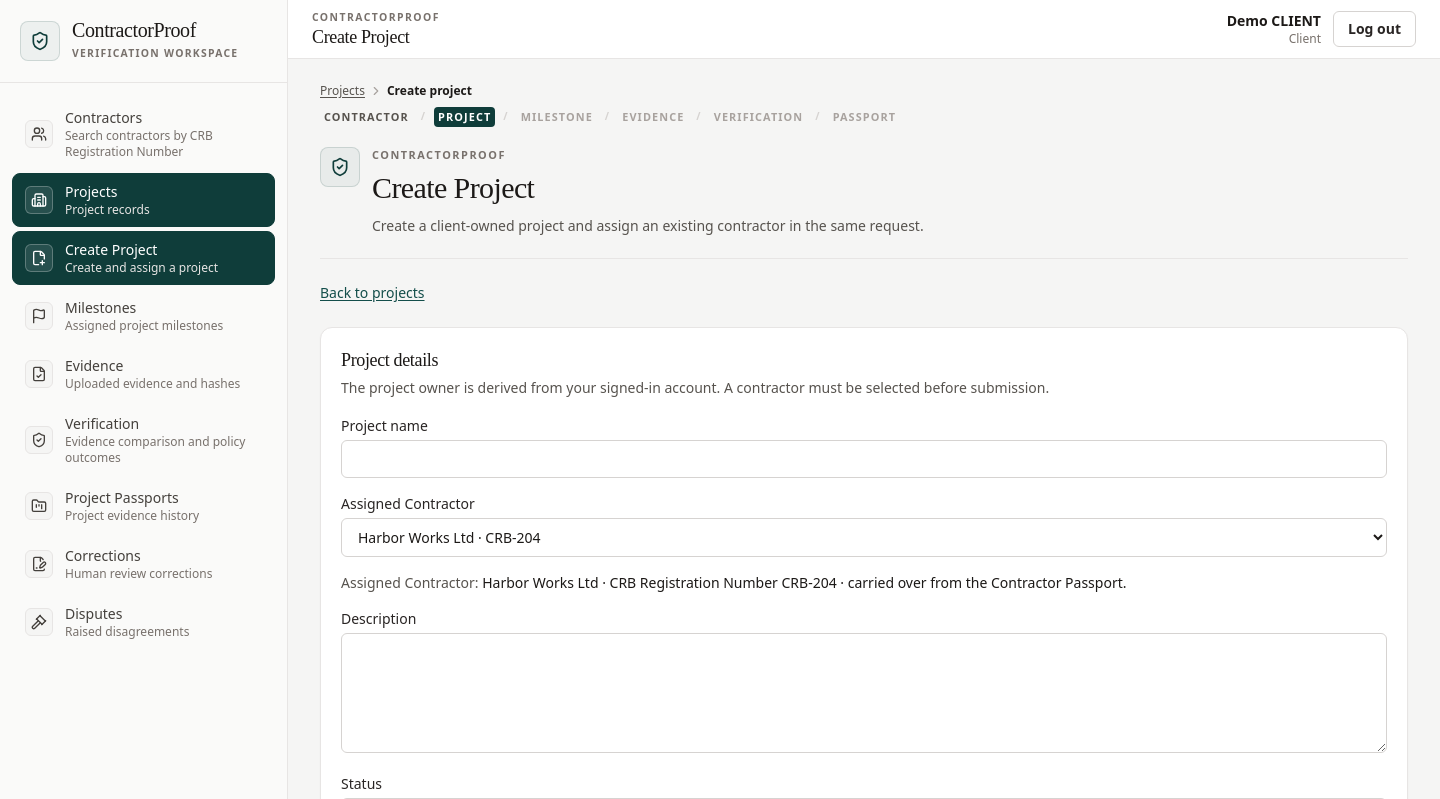
Test: create project with the contractor carried from the Passport › creates the project with the carried contractor and confirms the result
The image size is (1440, 799).
Check: the dropdown labelled "Assigned Contractor" is shown, box [341,518,1387,558]
Type "Harbor bridge deck" into the field labelled "Project name" at (864, 460), box [341,440,1387,478]
(page scrolled)
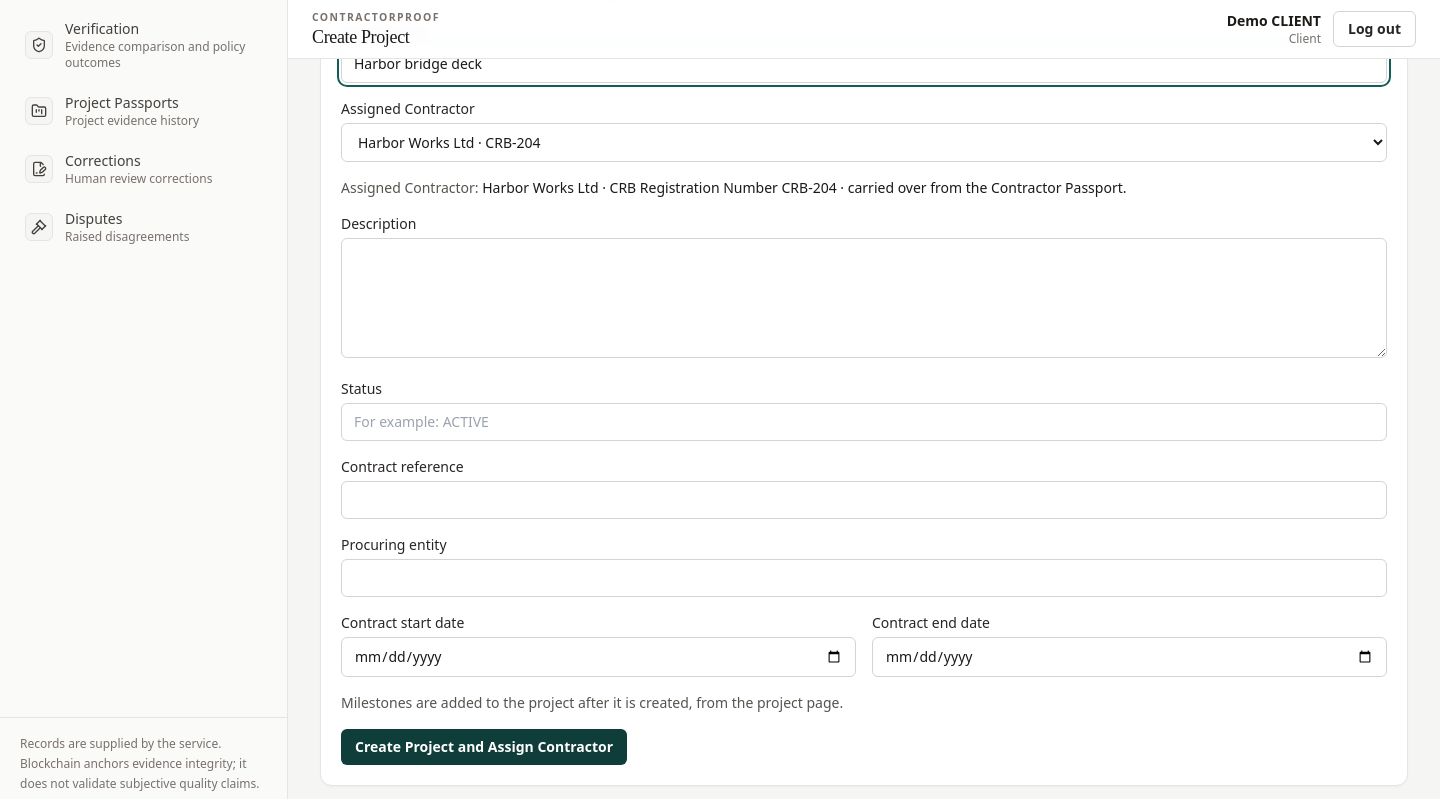
Click the button "Create Project and Assign Contractor" at (484, 748), box [341,730,627,766]
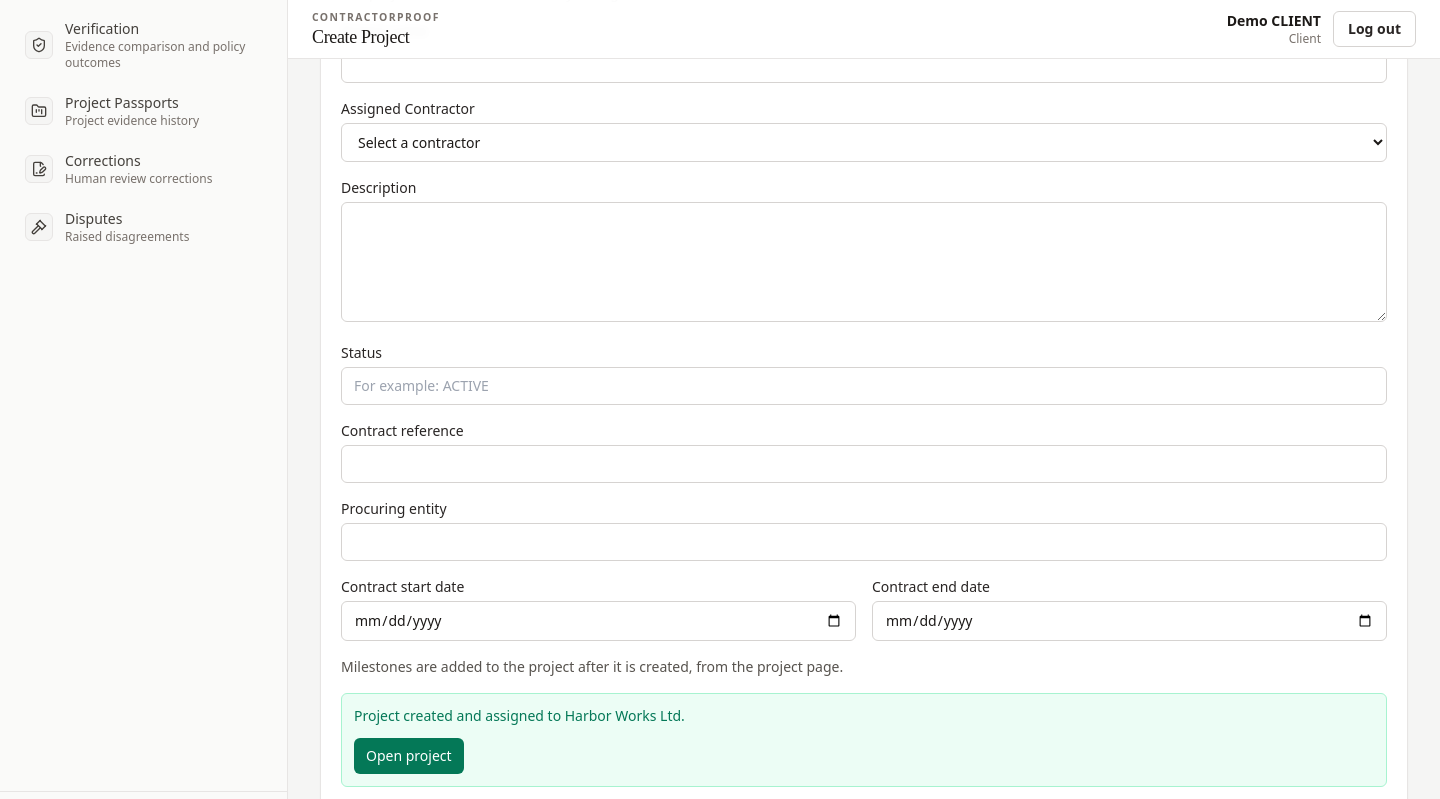
Check: the text "Project created and assigned to Harbor Works Ltd." is shown, box [354,706,685,726]
